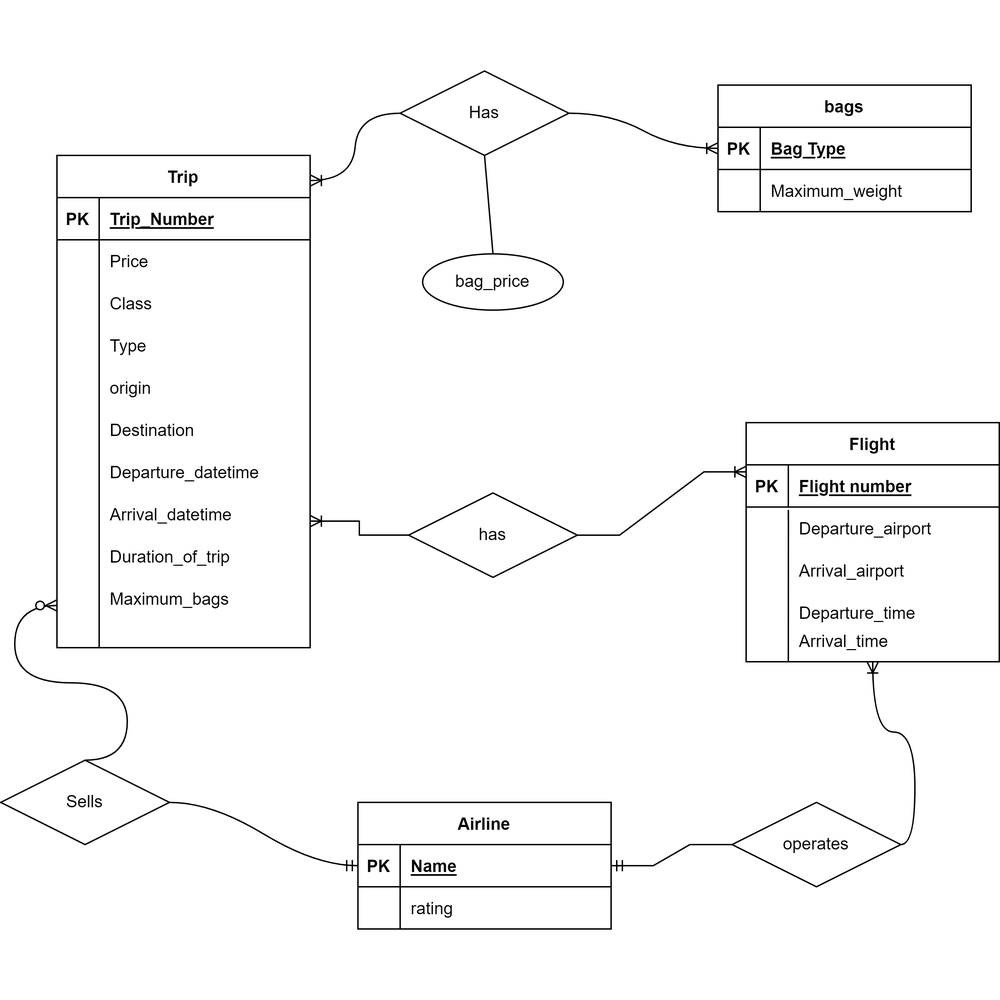attribute: (417, 240, 563, 312)
entity: (46, 148, 327, 659), (734, 406, 1000, 667), (348, 795, 631, 930), (708, 80, 980, 214)
relationship: (395, 69, 579, 170), (405, 486, 591, 582), (2, 755, 170, 851), (734, 804, 904, 888)
